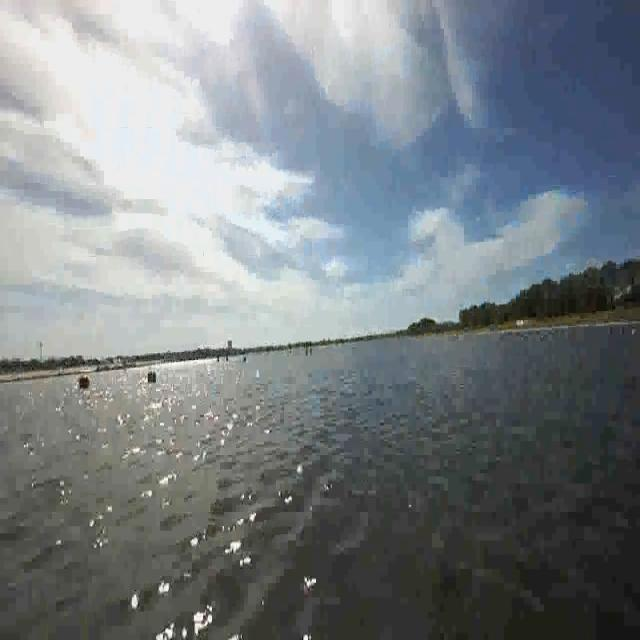green-buoy: (146, 368, 156, 386)
red-buoy: (79, 375, 91, 392)
